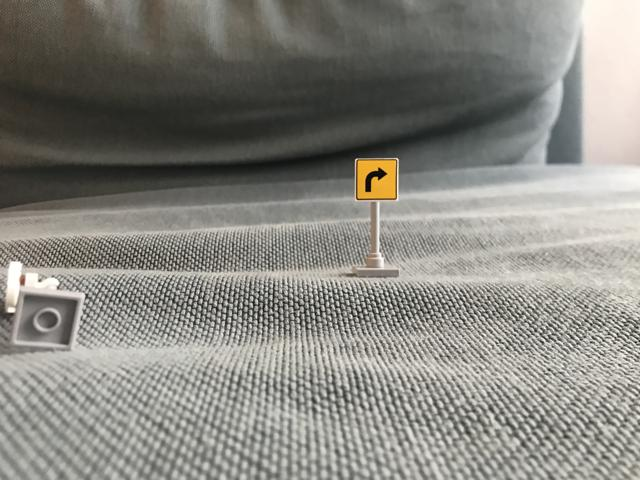fahrtrichtung rechts: (348, 155, 401, 203)
